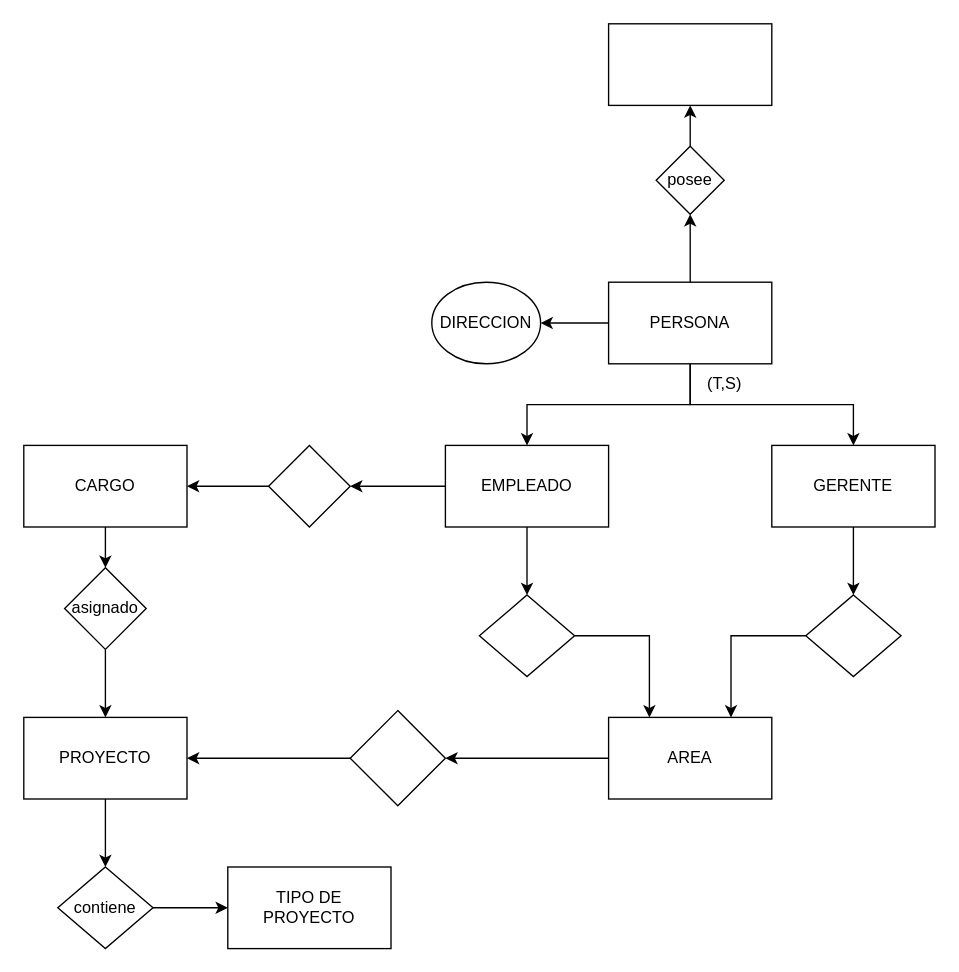
Some shapes in this 959 by 972 pixel diagram are drawn without their labels. Each missing label, with the box of its shape:
corresponde: (478, 594, 575, 677)
realiza: (349, 709, 445, 806)
se encarga: (804, 594, 901, 677)
tiene: (267, 444, 350, 527)
TITULO: (607, 22, 772, 105)
